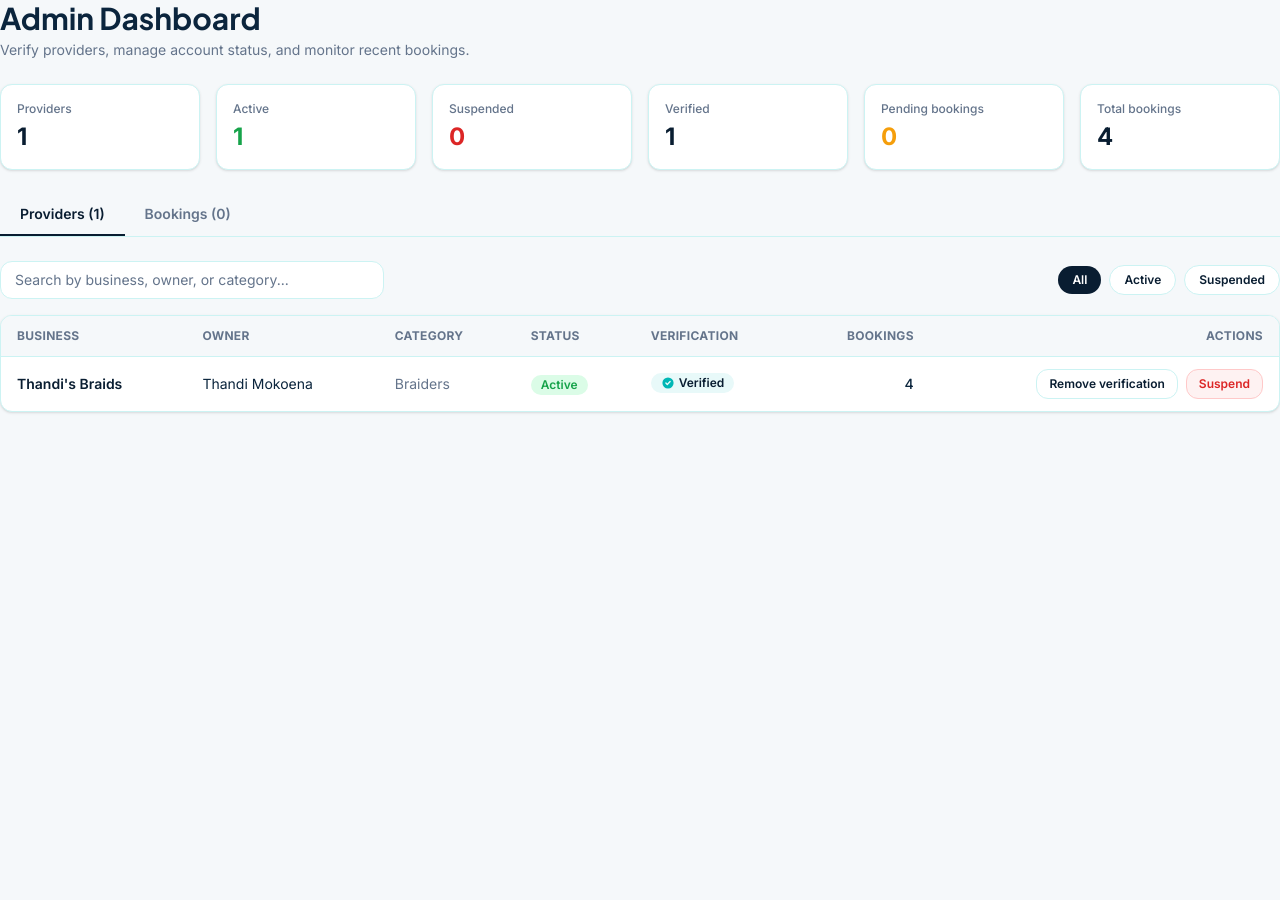
AdminDashboardPage › shows confirmation when clicking Suspend and calls setProviderStatus on confirm
The image size is (1280, 900).
Later steps or results of the test are not shown.
Click the button "Suspend" at [1224, 384], box [1186,369,1263,399]
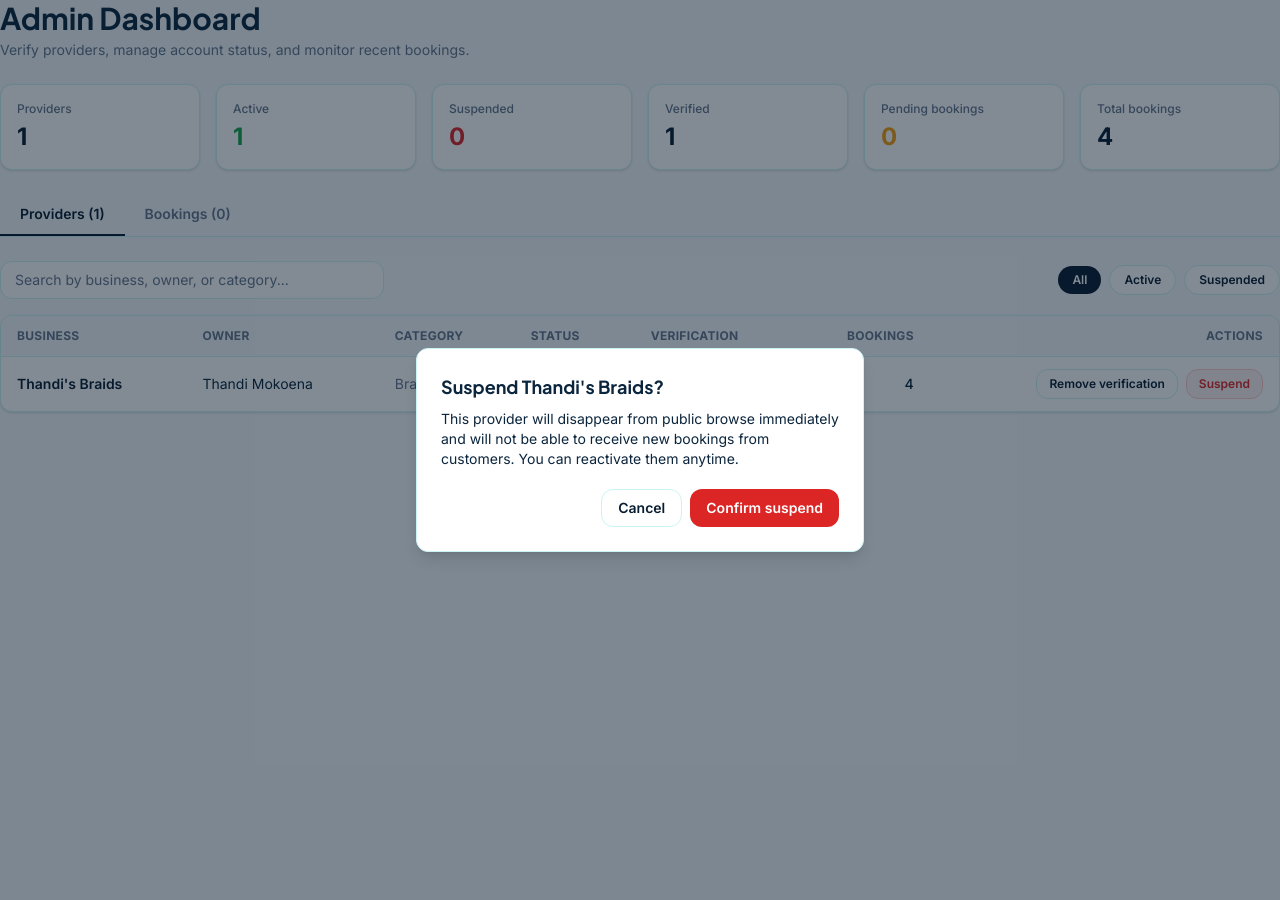
Now the dialog is shown
Now the text "disappear from public browse immediately" is shown, box [441,410,839,467]
